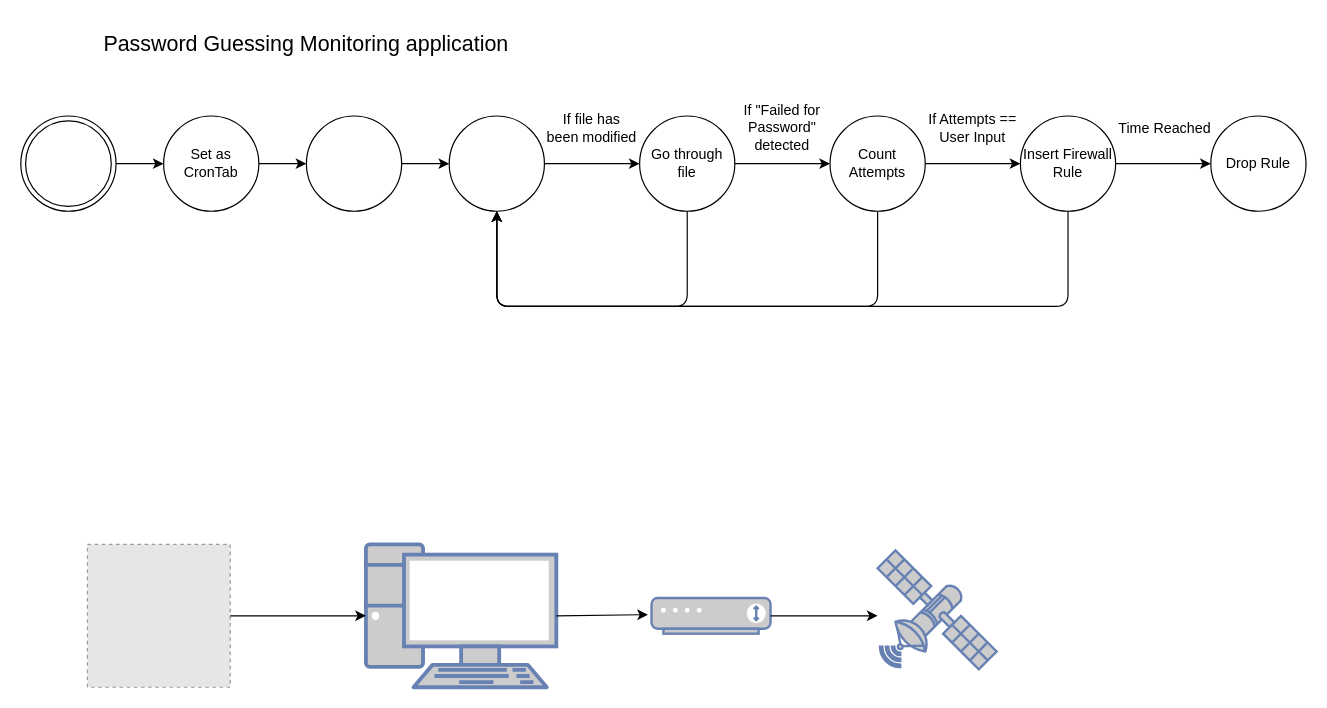
Image size: 1327x708. Some labels were removed from this diagram. Grey dashed boxes stand in for pictures. The shapes that lost their labels are listed below. From the top down, each one's centre as x and y in pixels, then its label:
At point (68, 163): "Start".
At point (353, 163): "Set User Settings".
At point (496, 163): "Monitor File".
